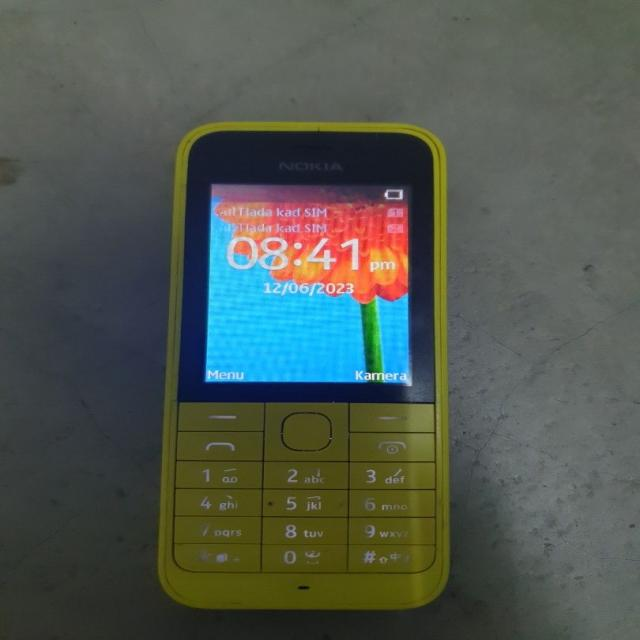mobile phone: (156, 119, 452, 612)
